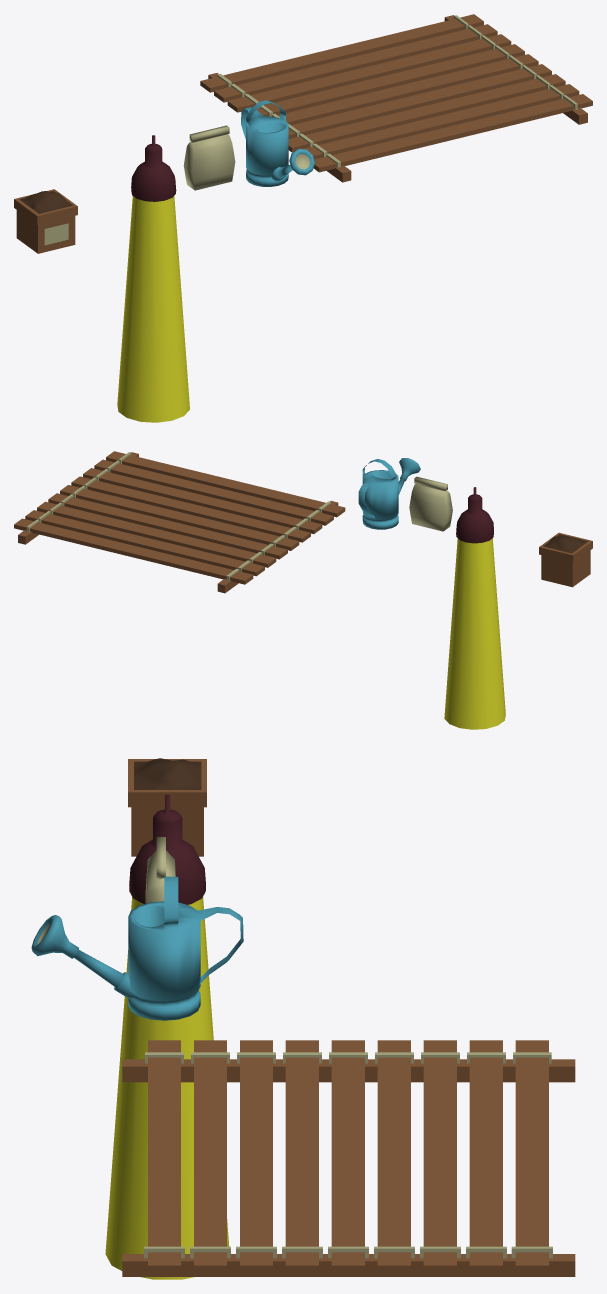
Rendered from props.fbx.
The picture shows the model from 3 angles, top to bottom: view 1: azimuth 30°, elevation 25°; view 2: azimuth 150°, elevation 25°; view 3: azimuth 270°, elevation 25°; orthographic projection. The views are drawn at different scales.
Parts seen in each view (by area): view 1: Cube, Circle.001, Circle, Cube.002, Cube.003, Cube.005, Cube.001; view 2: Cube, Circle.001, Circle, Cube.002, Cube.003, Cube.005, Cube.001; view 3: Cube, Circle.001, Circle, Cube.001, Cube.003, Cube.005, Cube.002.
Boxes of the visible parts, left/top/right/bottom form: Cube: left=200, top=14, right=592, bottom=172; Circle.001: left=117, top=135, right=189, bottom=422; Circle: left=241, top=100, right=314, bottom=186; Cube.002: left=183, top=125, right=235, bottom=190; Cube.003: left=14, top=189, right=77, bottom=253; Cube.005: left=19, top=191, right=73, bottom=213; Cube.001: left=208, top=15, right=587, bottom=182; Cube: left=14, top=451, right=345, bottom=584; Circle.001: left=444, top=487, right=505, bottom=729; Circle: left=358, top=458, right=420, bottom=529; Cube.002: left=409, top=476, right=452, bottom=531; Cube.003: left=539, top=532, right=592, bottom=587; Cube.005: left=543, top=534, right=588, bottom=553; Cube.001: left=18, top=452, right=338, bottom=593; Cube: left=144, top=1040, right=552, bottom=1273; Circle.001: left=105, top=795, right=229, bottom=1279; Circle: left=31, top=876, right=243, bottom=1020; Cube.001: left=122, top=1059, right=575, bottom=1276; Cube.003: left=128, top=759, right=206, bottom=856; Cube.005: left=134, top=758, right=201, bottom=789; Cube.002: left=145, top=837, right=175, bottom=903.
Size of the model in its own units: 3022 by 1422 by 1503.
